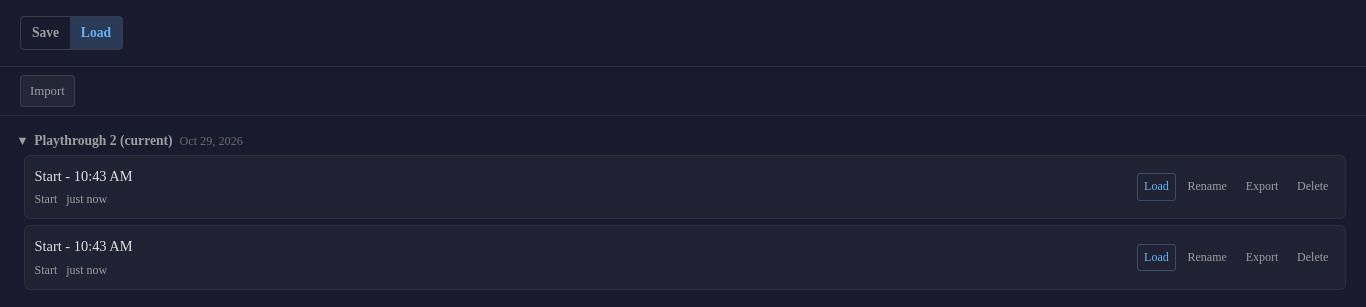
Test: SaveManagerContent › delete › deleting slot saves clears the slots and the store save cache
Expected: the number of elements with class "save-slot" is 2, [24,155,1346,219]; [24,226,1346,290]
What coordinates should you click on to do the following:
click the 1st button with class "danger"
I would click on:
 (1313, 187)
Its box is [1290,173,1335,201].
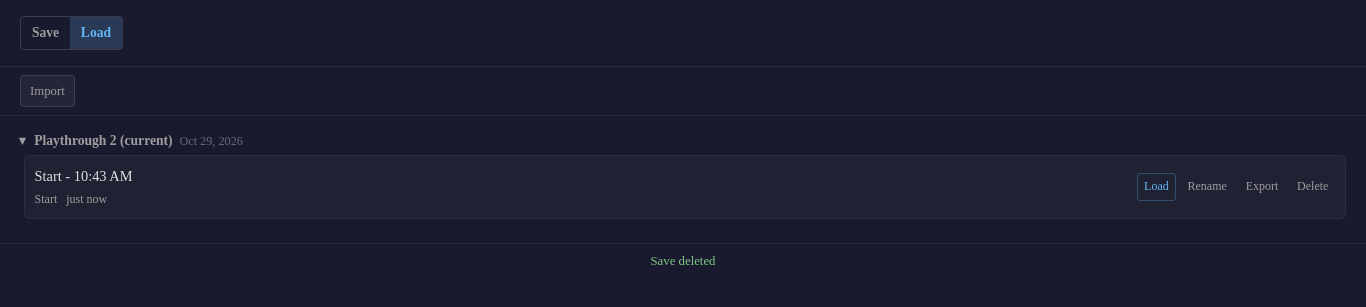
What coordinates should you click on to do the following:
click the button with class "danger"
I would click on:
 (1313, 187)
Its box is [1290,173,1335,201].
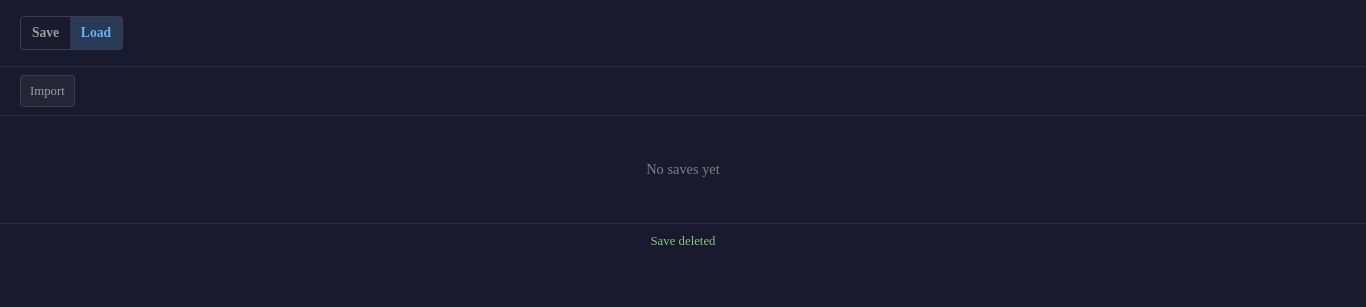
Now no elements with class "save-slot" are shown
